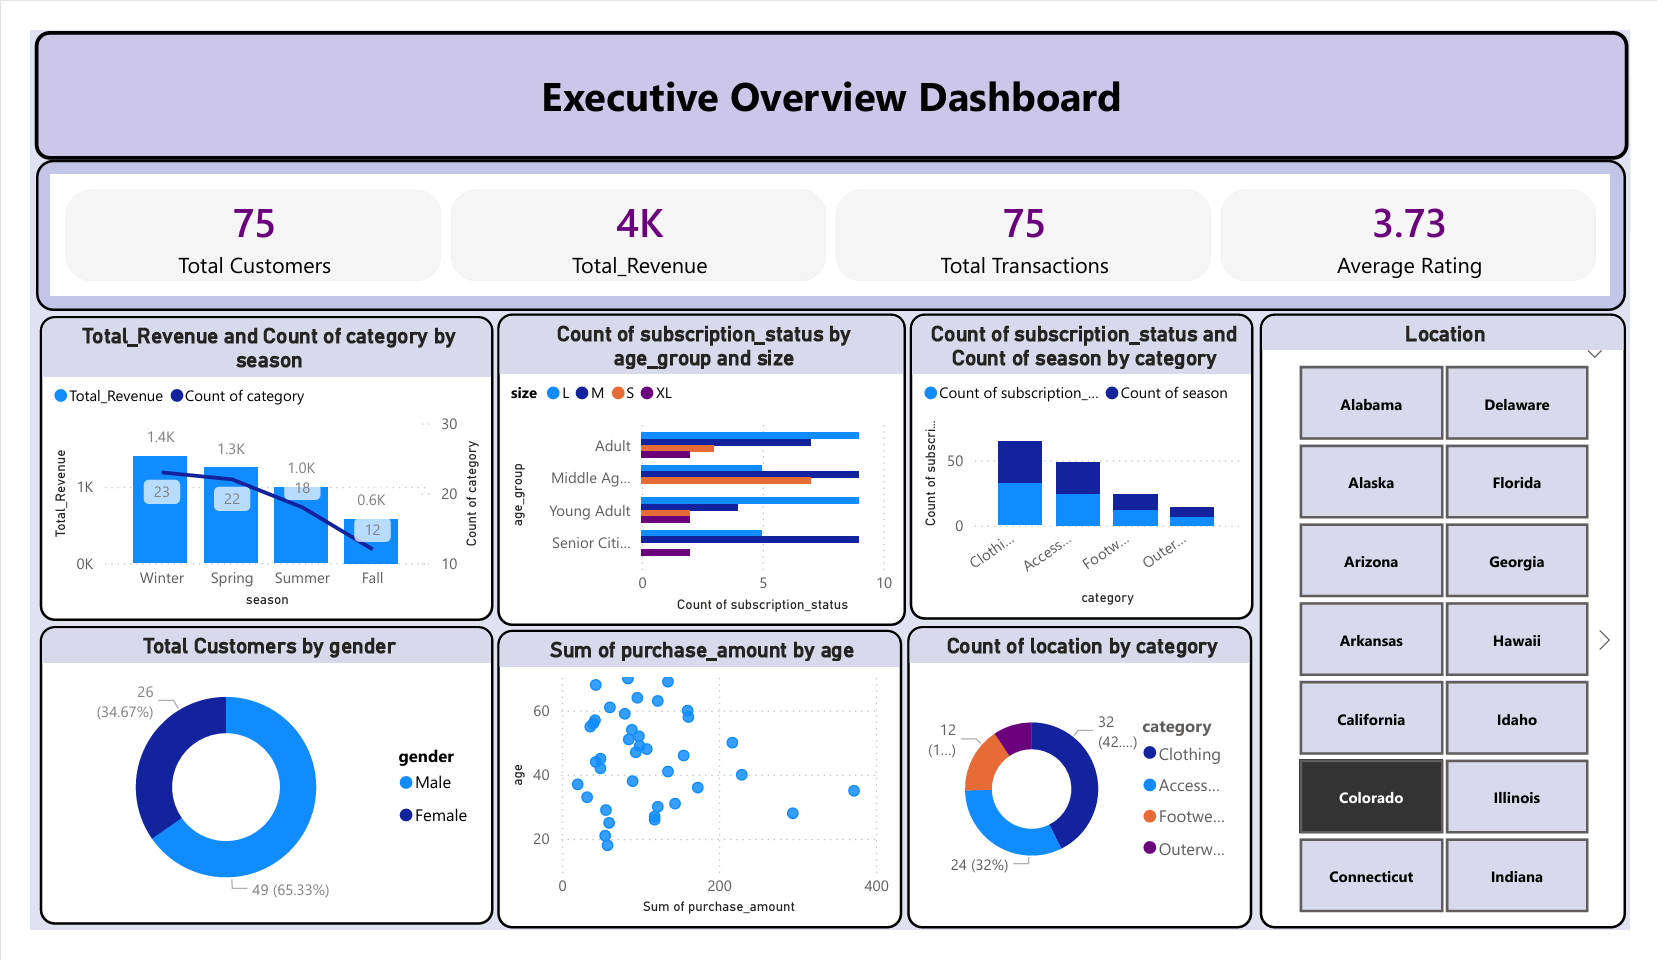

This screenshot's page, from the dashboard's own definition file:
{"tool":"powerbi","page":{"name":"Executive Overview Dashboard","canvas":[1280,720],"ordinal":0},"visuals":[{"type":"textbox","box":[2.7,0,1274.8,102.9],"z":0},{"type":"cardVisual","fields":{"Data":["CustomerAnalysis.Total Customers","CustomerAnalysis.Total_Revenue","CustomerAnalysis.Total Transactions","CustomerAnalysis.Average Rating"]},"box":[4.1,102.9,1272,120.8],"z":1000},{"type":"clusteredBarChart","fields":{"Category":["CustomerAnalysis.age_group"],"Y":["CountNonNull(CustomerAnalysis.subscription_status)"],"Series":["CustomerAnalysis.size"]},"box":[373.2,226.4,326.6,249.7],"z":2000},{"type":"donutChart","fields":{"Category":["CustomerAnalysis.gender"],"Y":["CustomerAnalysis.Total Customers"]},"box":[6.9,476.2,363.6,238.8],"z":3000},{"type":"lineStackedColumnComboChart","fields":{"Category":["CustomerAnalysis.season"],"Y":["CustomerAnalysis.Total_Revenue"],"Y2":["CountNonNull(CustomerAnalysis.category)"]},"box":[6.9,227.8,363.6,244.3],"z":4000},{"type":"donutChart","fields":{"Category":["CustomerAnalysis.category"],"Y":["CountNonNull(CustomerAnalysis.location)"]},"box":[701.2,476.2,275.8,241.5],"z":5000},{"type":"scatterChart","fields":{"X":["Sum(CustomerAnalysis.purchase_amount)"],"Y":["CustomerAnalysis.age"]},"box":[373.2,478.9,323.8,238.8],"z":6000},{"type":"lineStackedColumnComboChart","fields":{"Category":["CustomerAnalysis.category"],"Y":["CountNonNull(CustomerAnalysis.subscription_status)","CountNonNull(CustomerAnalysis.season)"]},"box":[702.6,226.4,275.8,244.3],"z":7000},{"type":"slicer","title":"Location","fields":{"Values":["CustomerAnalysis.location"]},"box":[982.5,226.4,293.7,491.3],"z":8000}]}

Visuals, with their boxes in screenshot pixels (x1, y1, x2, y2), scaled from the page's 1280x720 canvas onto the 1657x960 screenshot:
textbox: (3,0,1654,137)
cardVisual - CustomerAnalysis.Total Customers x CustomerAnalysis.Total_Revenue: (5,137,1652,298)
clusteredBarChart - CustomerAnalysis.age_group x CountNonNull(CustomerAnalysis.subscription_status): (483,302,906,635)
donutChart - CustomerAnalysis.gender x CustomerAnalysis.Total Customers: (9,635,480,953)
lineStackedColumnComboChart - CustomerAnalysis.season x CustomerAnalysis.Total_Revenue: (9,304,480,629)
donutChart - CustomerAnalysis.category x CountNonNull(CustomerAnalysis.location): (908,635,1265,957)
scatterChart - Sum(CustomerAnalysis.purchase_amount) x CustomerAnalysis.age: (483,639,902,957)
lineStackedColumnComboChart - CustomerAnalysis.category x CountNonNull(CustomerAnalysis.subscription_status): (910,302,1267,628)
"Location" slicer: (1272,302,1652,957)
